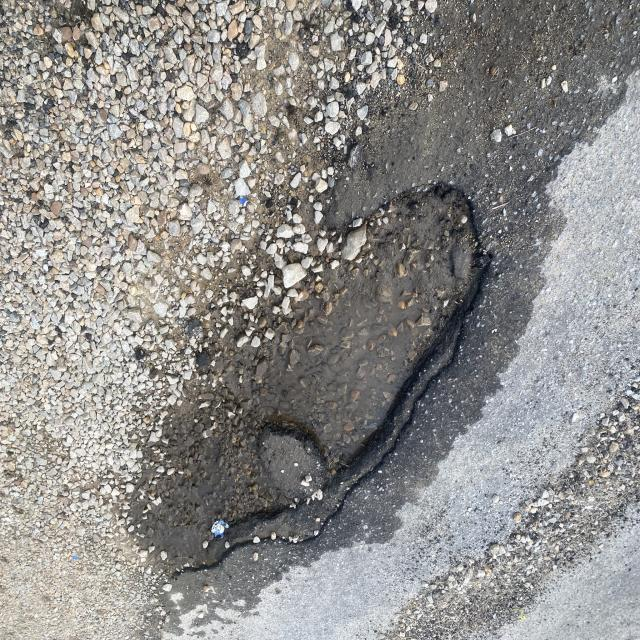Pothole: (96, 153, 570, 605)
